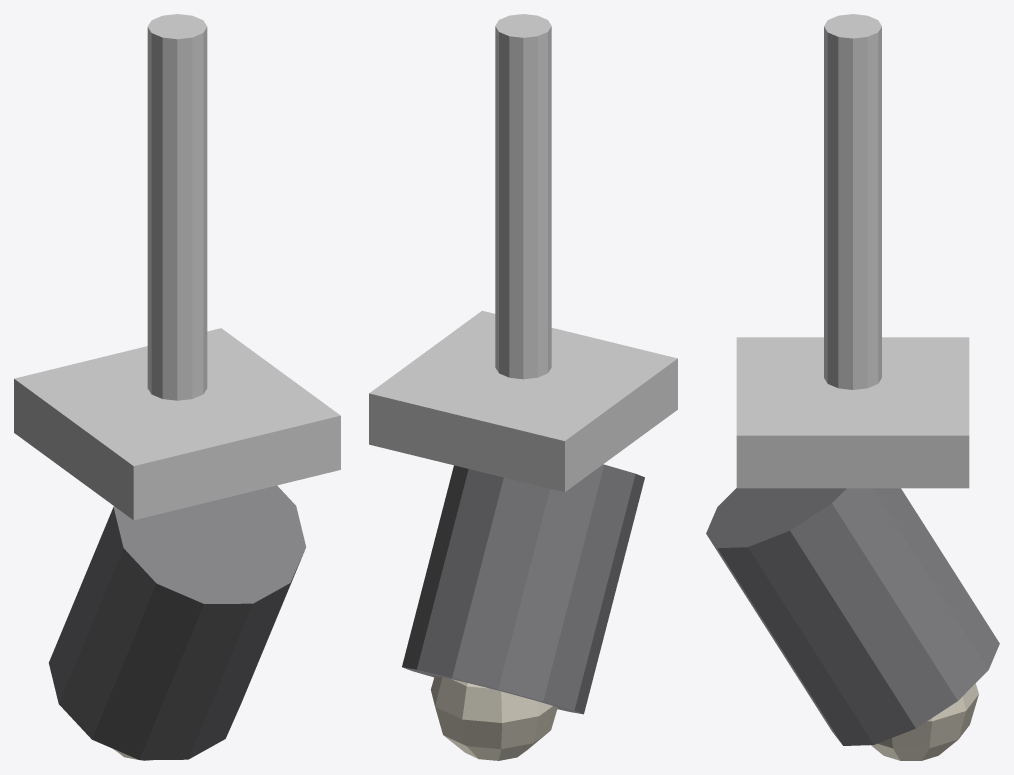
Rendered from ilu_spot_sala.glb.
3 renders of one model, left to right at view 1: azimuth 30°, elevation 25°; view 2: azimuth 150°, elevation 25°; view 3: azimuth 270°, elevation 25°, orthographic. The views are drawn at different scales.
Visible parts, largest first — view 1: ILU_Spot_Sala_v01; view 2: ILU_Spot_Sala_v01; view 3: ILU_Spot_Sala_v01.
Part boxes in pixels (left/top/right/bottom): ILU_Spot_Sala_v01: left=14, top=14, right=340, bottom=760; ILU_Spot_Sala_v01: left=369, top=14, right=677, bottom=760; ILU_Spot_Sala_v01: left=706, top=14, right=999, bottom=760.
Size of the model in its own units: 0.12 by 0.415 by 0.1516.
